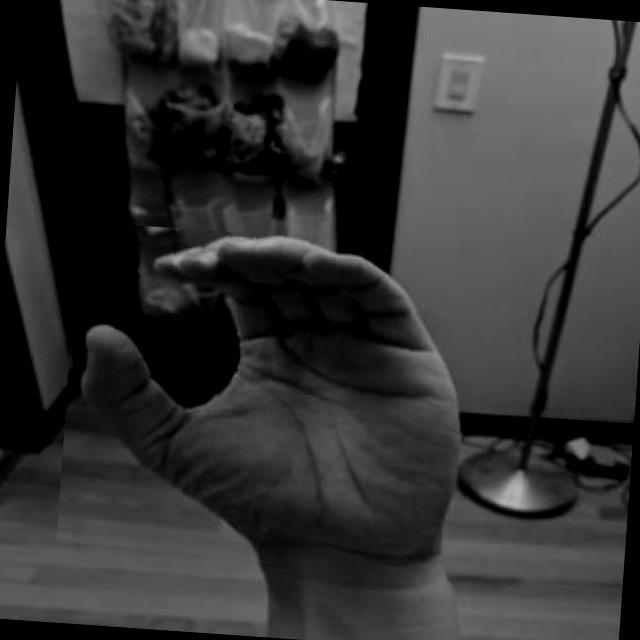C: (55, 221, 485, 584)
